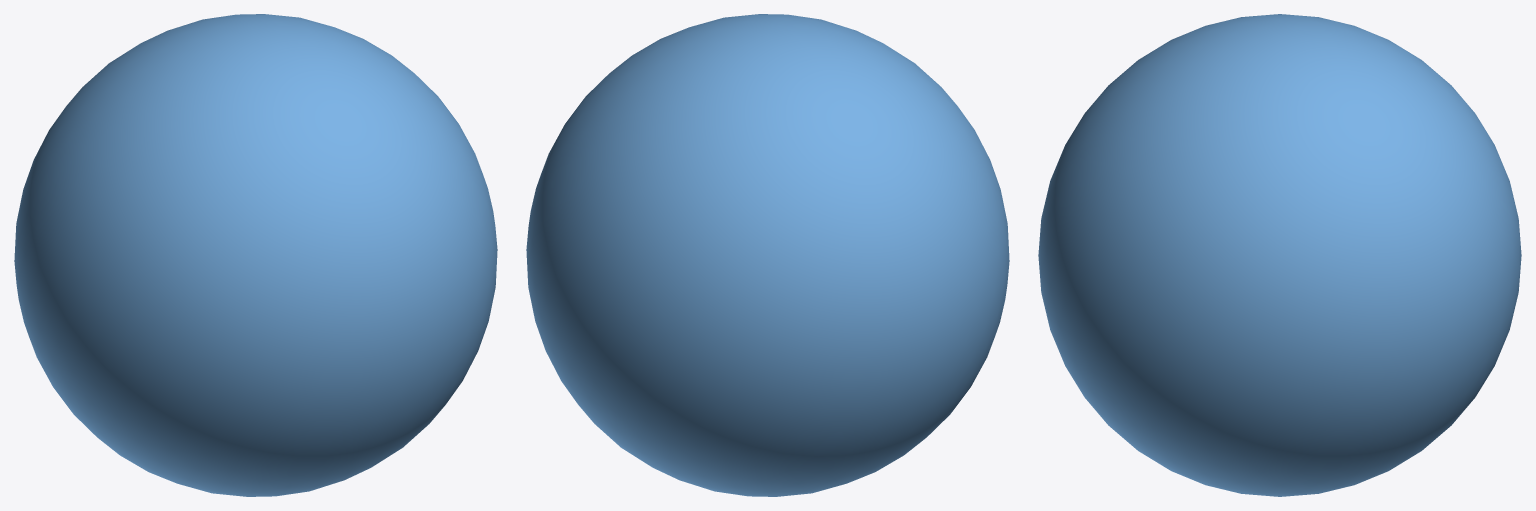
Rendered from earth.glb.
3 renders of one model, left to right at view 1: azimuth 30°, elevation 25°; view 2: azimuth 150°, elevation 25°; view 3: azimuth 270°, elevation 25°, orthographic.
Visible parts, largest first — view 1: Icosphere; view 2: Icosphere; view 3: Icosphere.
Boxes of the visible parts, bbox=[...] form: Icosphere: bbox=[14, 14, 497, 496]; Icosphere: bbox=[526, 14, 1009, 496]; Icosphere: bbox=[1038, 14, 1521, 496].
Size of the model in its own units: 0.12 by 0.12 by 0.12.
